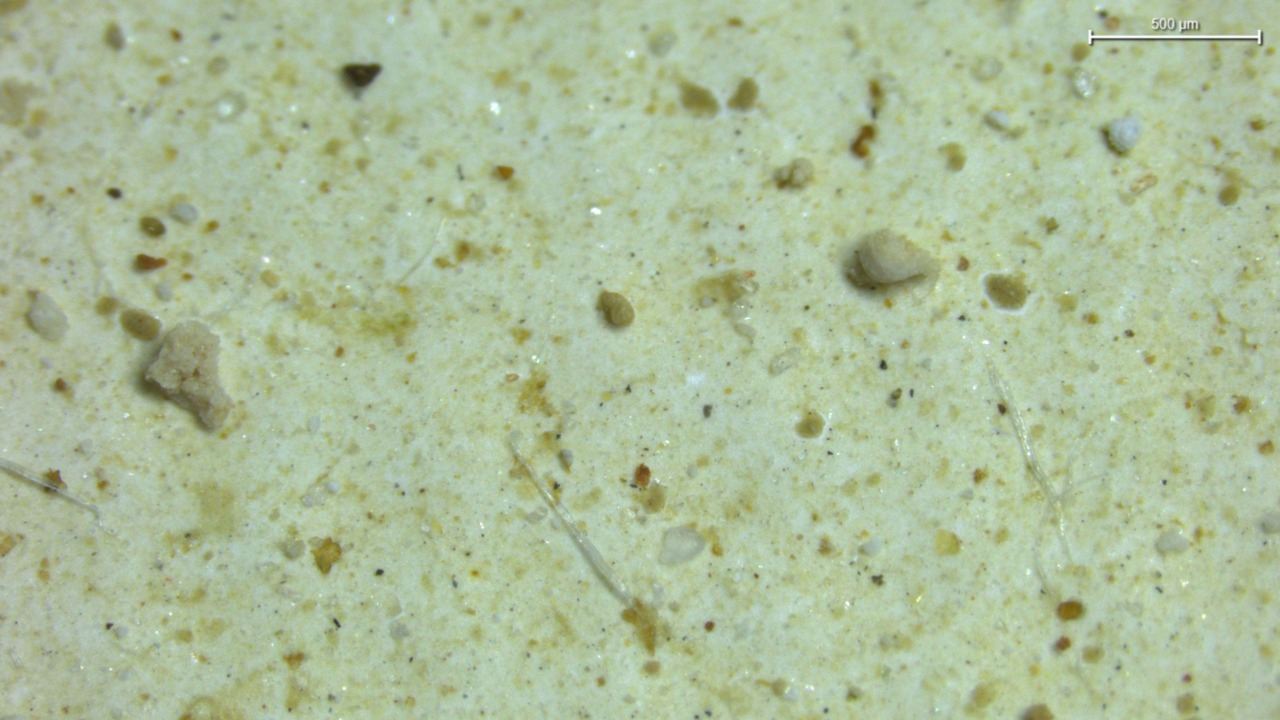microplastic_fragment: (145, 321, 232, 429), (856, 229, 938, 284), (27, 292, 68, 340), (659, 526, 706, 565), (1101, 116, 1142, 154), (597, 291, 634, 327)
